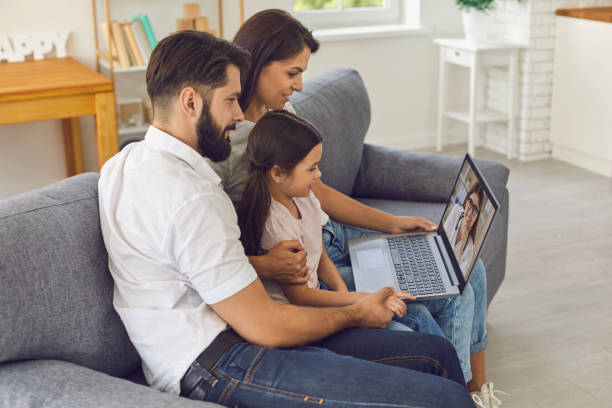without mask: (173, 64, 245, 158), (247, 25, 319, 119), (260, 129, 333, 207), (448, 190, 488, 232)
